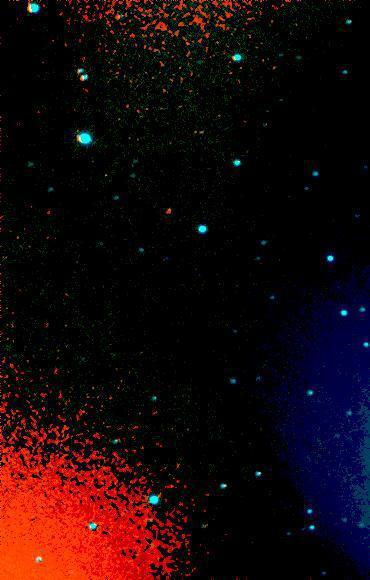star: (155, 194, 185, 224)
